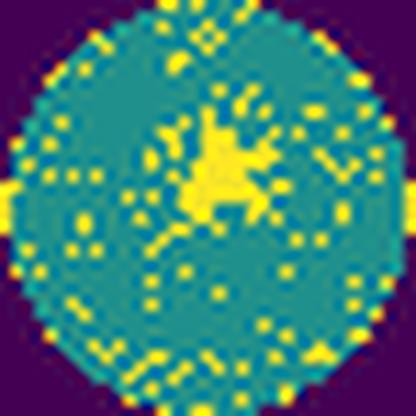Center: (171, 102, 292, 241)
